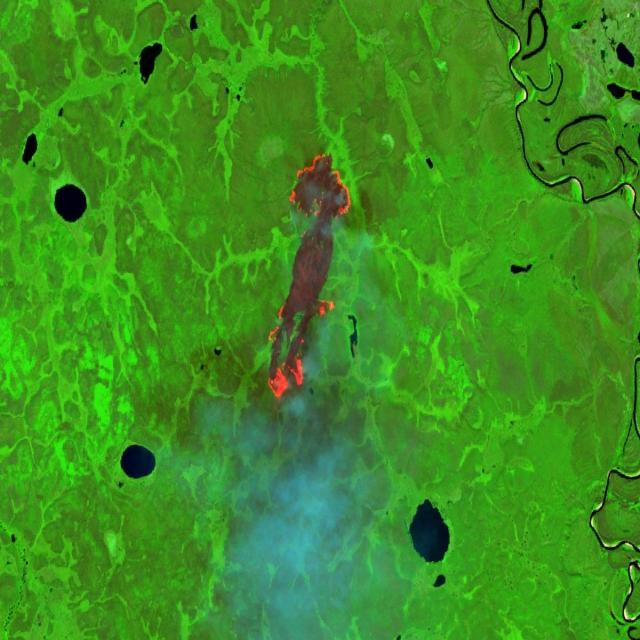fire: (260, 144, 362, 404)
